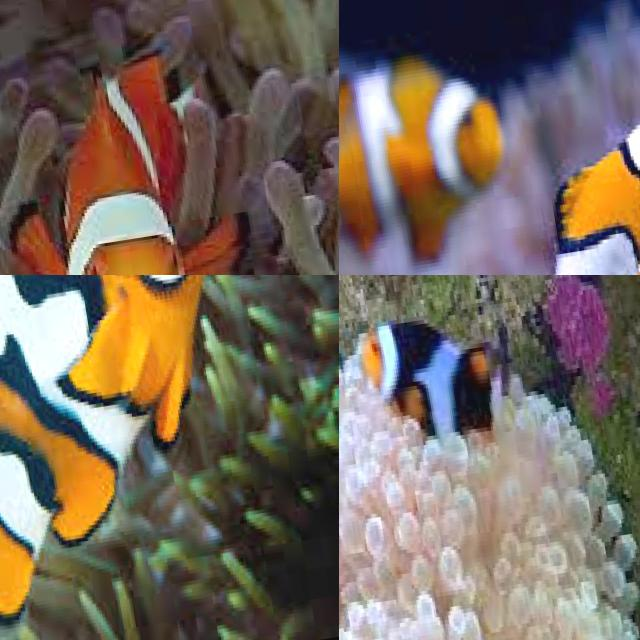Amphiprion-percula: (0, 275, 333, 639), (0, 0, 288, 275), (339, 0, 528, 275), (381, 77, 640, 275), (339, 275, 536, 517), (339, 377, 424, 613)
